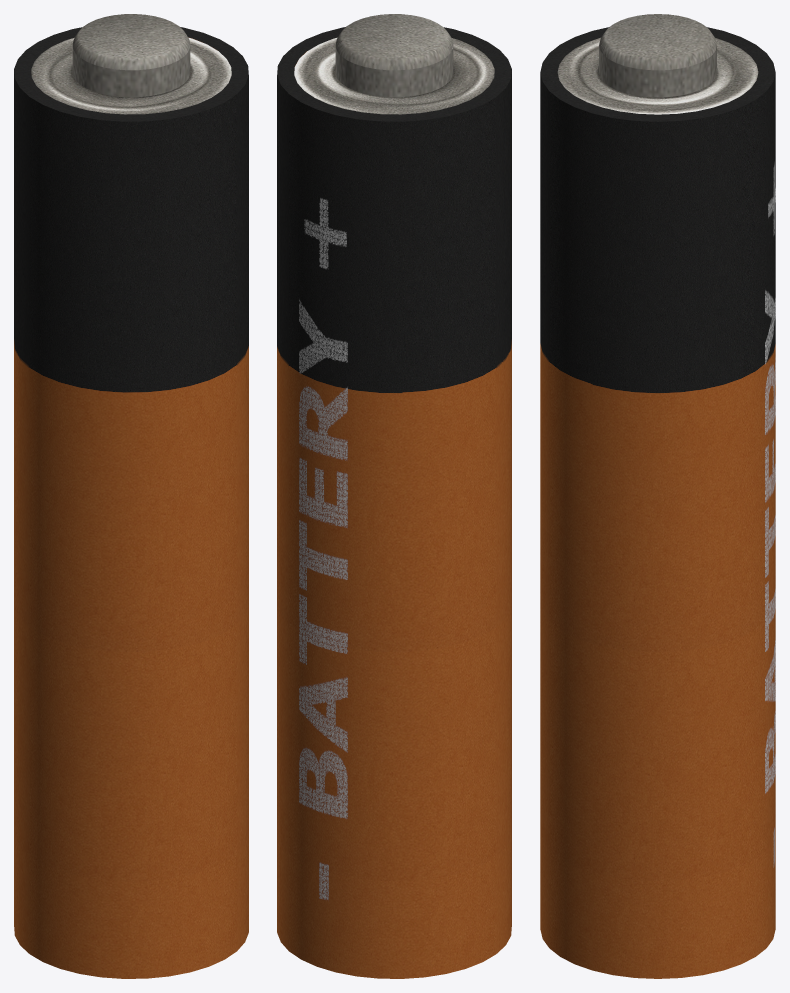
The model's file is Battery.fbx.
3 views of the same model, side by side, from view 1: azimuth 30°, elevation 25°; view 2: azimuth 150°, elevation 25°; view 3: azimuth 270°, elevation 25° (orthographic).
Visible parts, largest first — view 1: Battery; view 2: Battery; view 3: Battery.
Boxes of the visible parts, x1,y1,x2,y2 form: Battery: [14, 14, 248, 978]; Battery: [277, 14, 511, 978]; Battery: [540, 14, 775, 978].
Size of the model in its own units: 80.72 by 338 by 80.72.
1 material, 1 textured.
